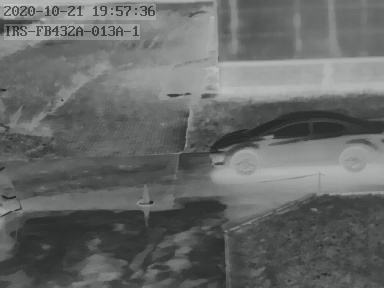vehicle: (208, 109, 383, 178)
